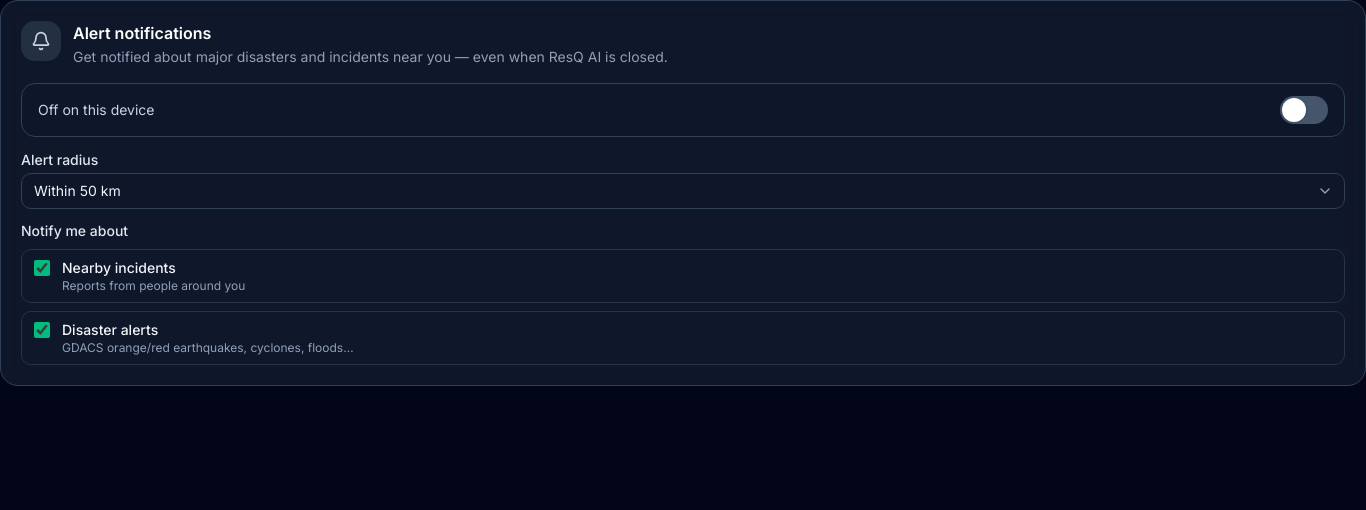
PushToggle › warns when no location could be saved
Click the switch: (1304, 110) [1280,96,1328,124]
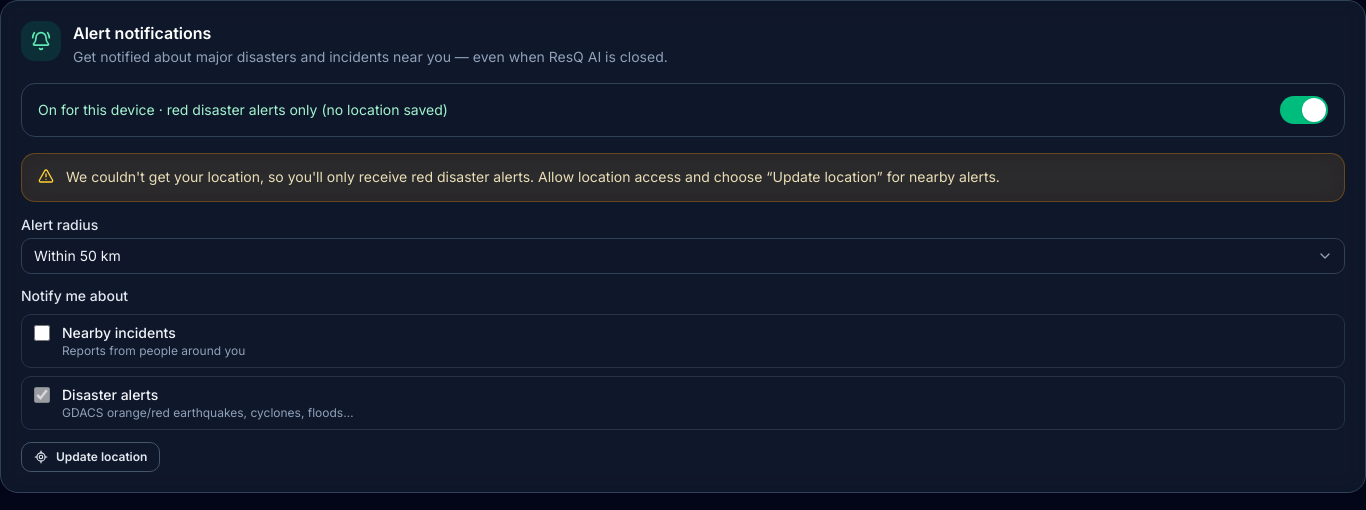
expect the text "On for this device · red disaster alerts only (no location saved)" is shown: met, box [38,100,448,120]
expect the text "We couldn't get your location" is shown: met, box [66,168,1000,185]
